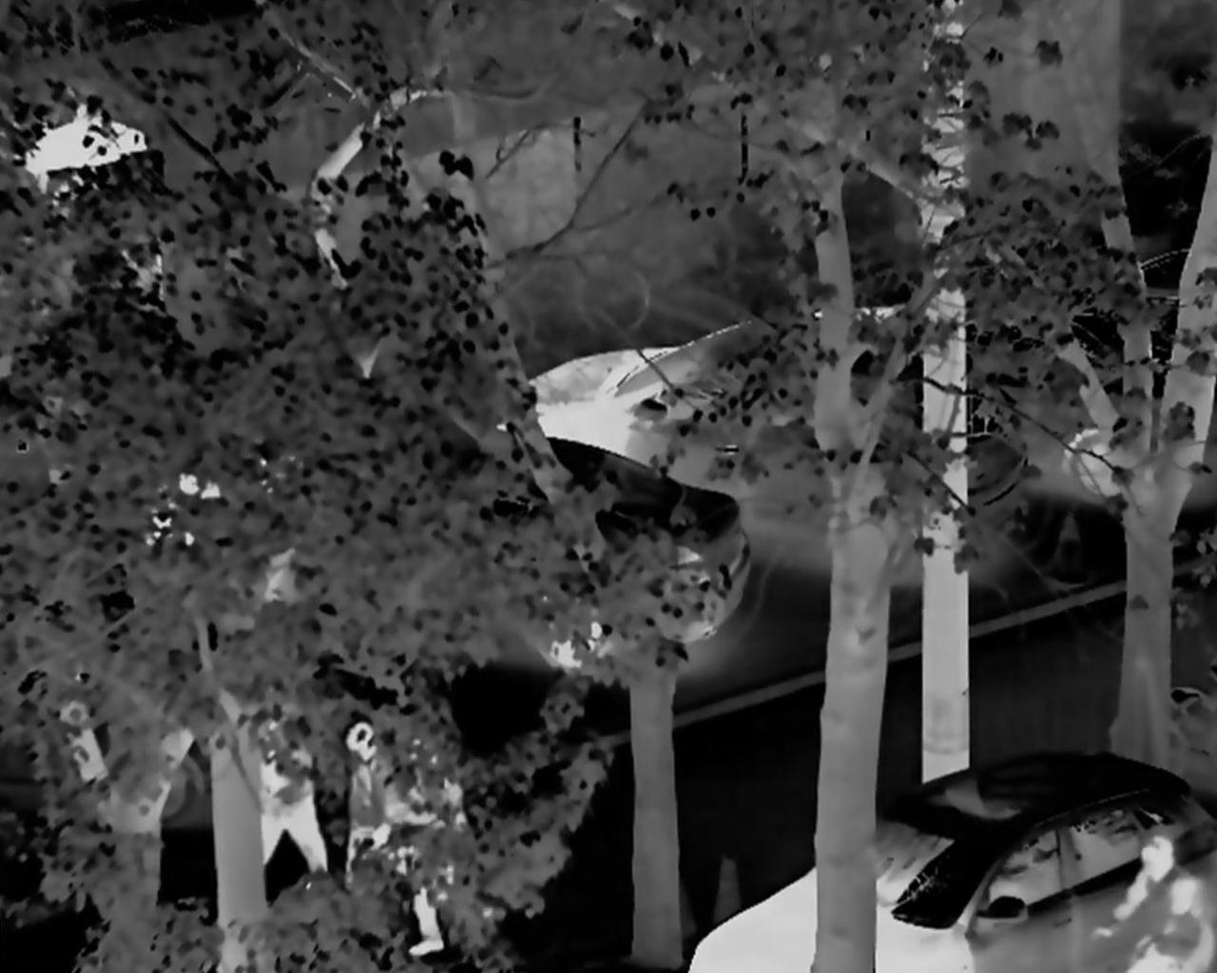person: (408, 747, 483, 956), (250, 710, 335, 892), (334, 717, 403, 915)
